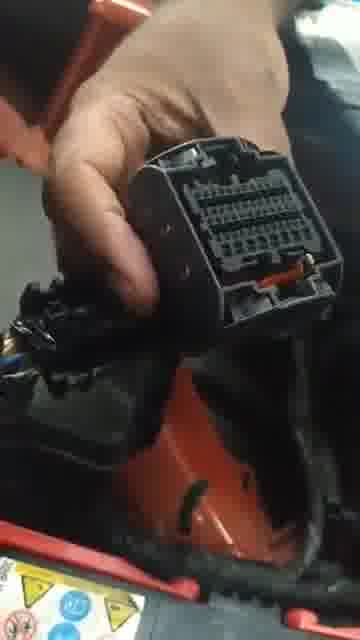connector: (132, 131, 343, 334)
